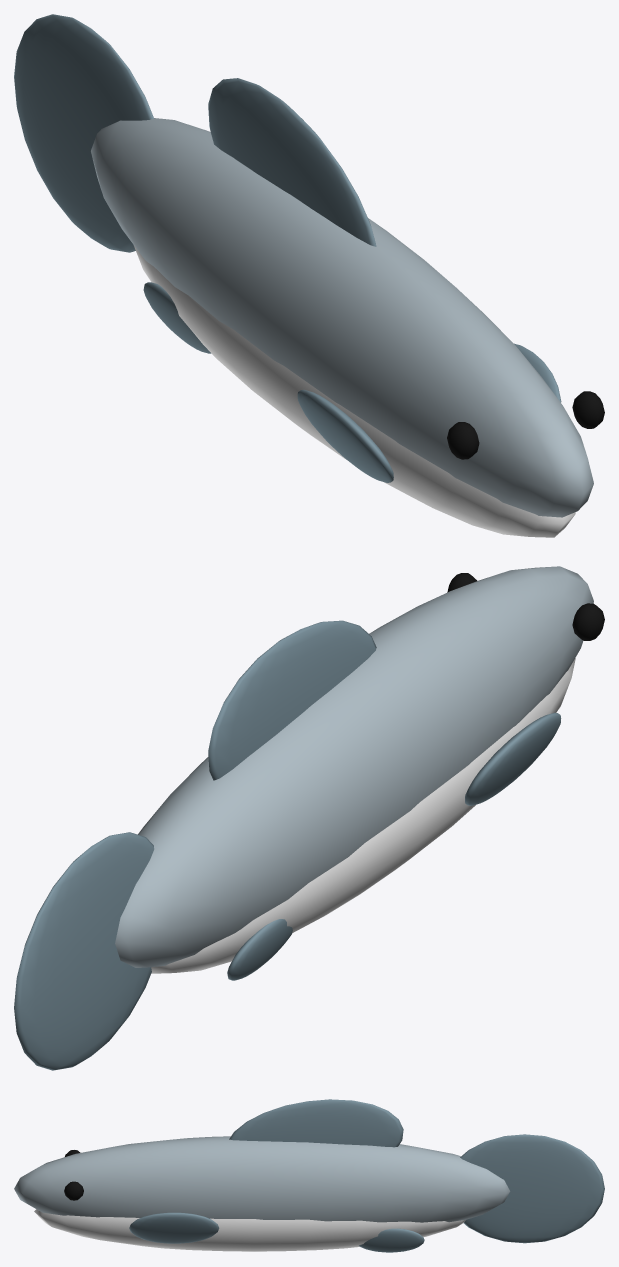
Rendered from mullet.glb.
The picture shows the model from 3 angles, top to bottom: view 1: azimuth 30°, elevation 25°; view 2: azimuth 150°, elevation 25°; view 3: azimuth 270°, elevation 25°; orthographic projection. The views are drawn at different scales.
Parts seen in each view (by area): view 1: mullet; view 2: mullet; view 3: mullet.
Boxes of the visible parts, x1=… form: mullet: x1=14, y1=14, x2=604, y2=537; mullet: x1=14, y1=566, x2=604, y2=1070; mullet: x1=14, y1=1099, x2=604, y2=1252.
Size of the model in its own units: 0.2521 by 0.3269 by 1.18.
